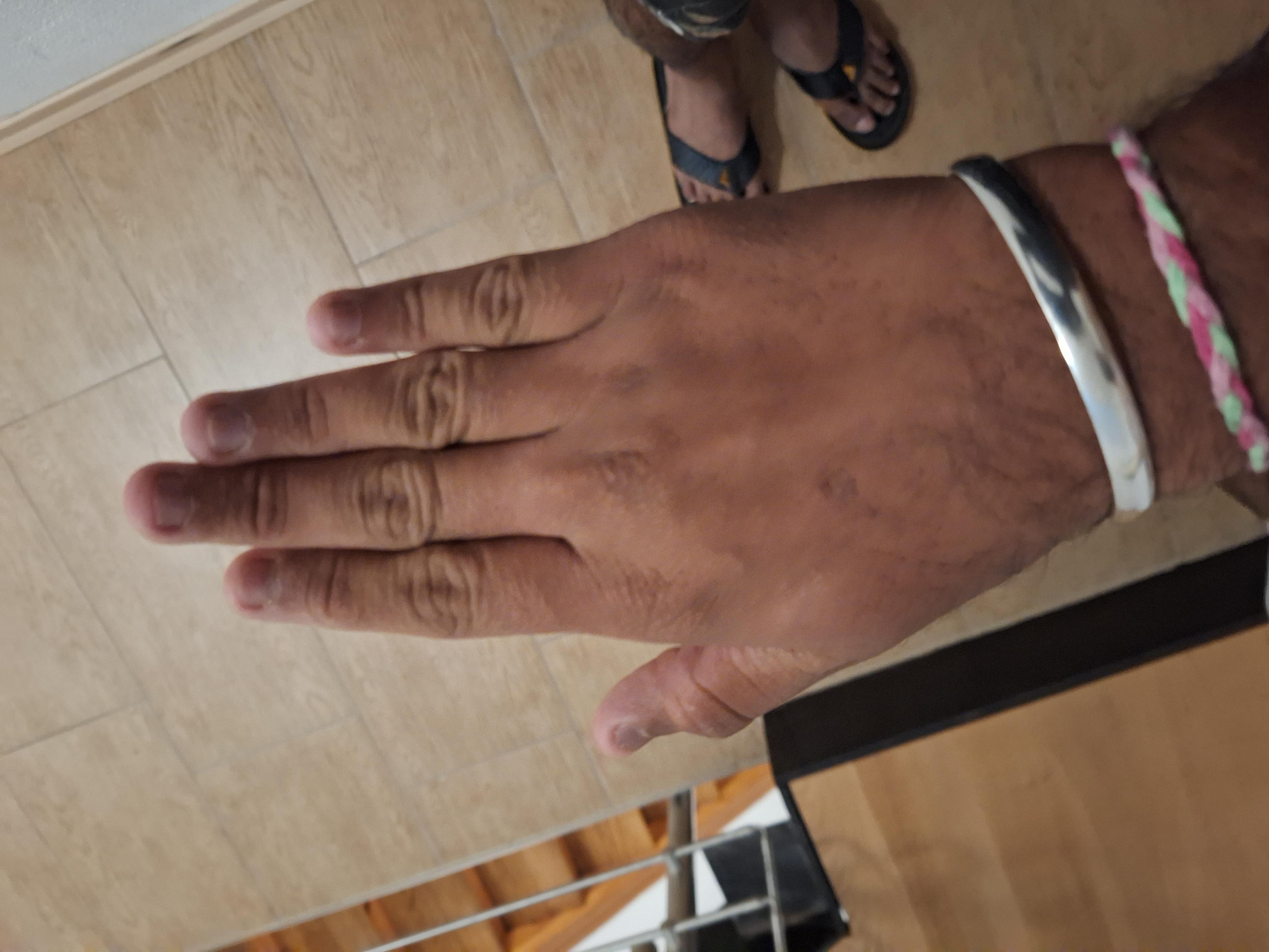Fingernail: (208, 406, 252, 457), (150, 474, 190, 530), (237, 557, 280, 609), (329, 301, 361, 346), (615, 721, 648, 755)
